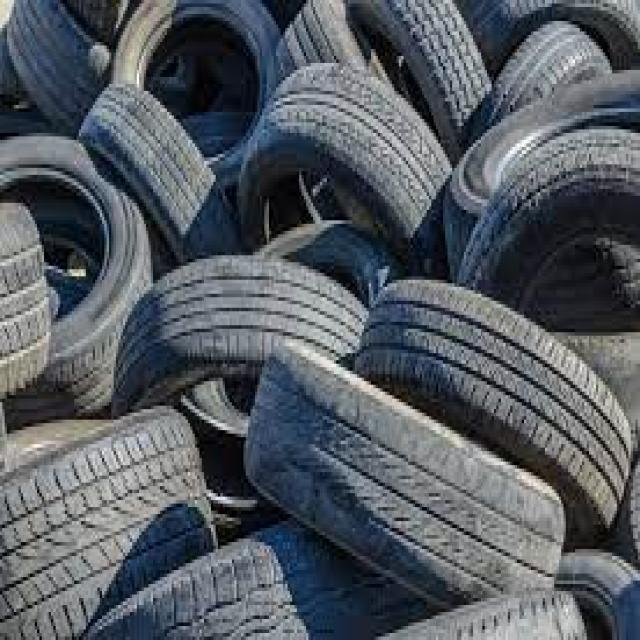Rubber -Non-Biodegradable but Recyclable-: (0, 1, 638, 636)
